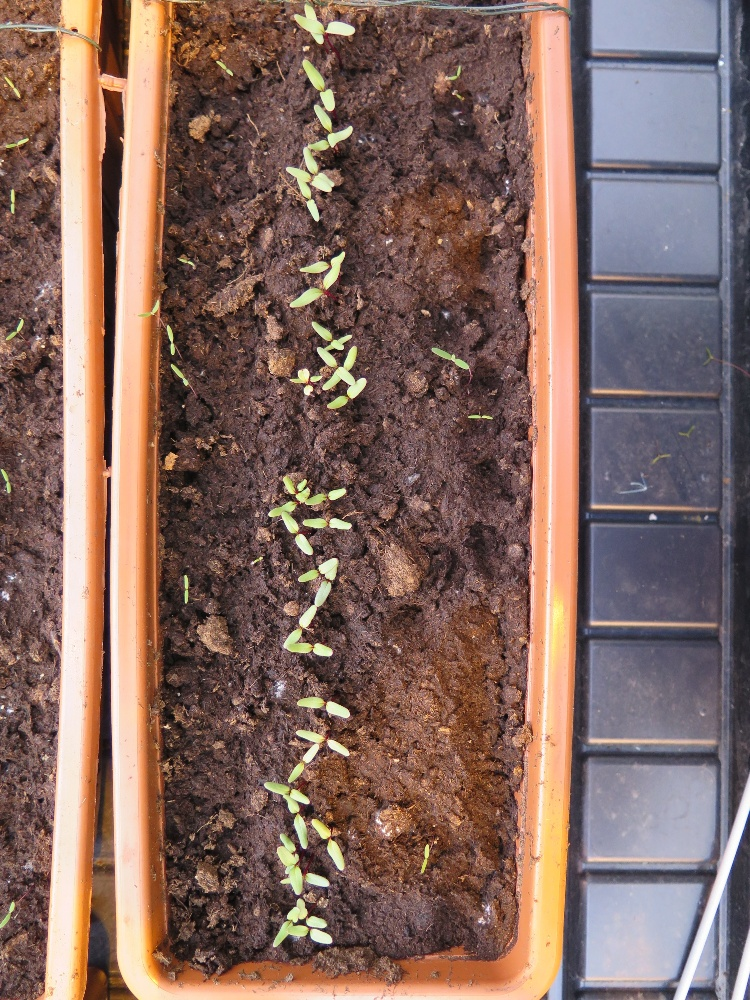crop: (290, 265, 341, 309), (277, 606, 325, 650), (309, 816, 346, 873), (292, 728, 354, 757), (320, 347, 359, 391), (281, 793, 312, 848), (279, 511, 315, 557), (315, 345, 356, 385), (283, 743, 322, 784), (294, 694, 351, 722), (275, 847, 305, 896), (262, 780, 314, 806), (327, 379, 366, 410), (274, 830, 302, 873), (272, 906, 299, 950), (268, 489, 310, 516), (298, 250, 346, 273), (269, 872, 337, 888), (313, 563, 337, 606), (287, 921, 331, 944), (282, 641, 338, 658), (297, 559, 337, 582), (301, 516, 353, 532), (305, 488, 347, 506), (296, 367, 314, 397), (287, 374, 324, 385)
weed: (430, 345, 470, 373), (135, 296, 160, 321), (170, 360, 189, 388), (215, 58, 234, 78), (166, 321, 175, 359), (420, 841, 430, 875), (467, 413, 494, 424), (182, 571, 189, 605)
